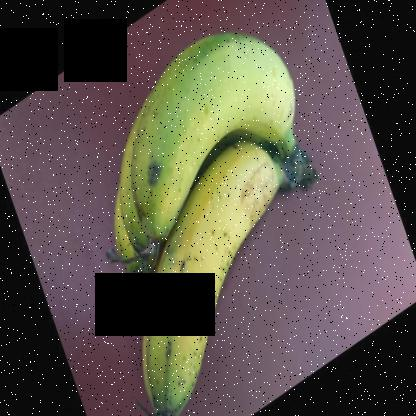freshripe: (110, 23, 304, 224)
ripe: (132, 134, 278, 410)
